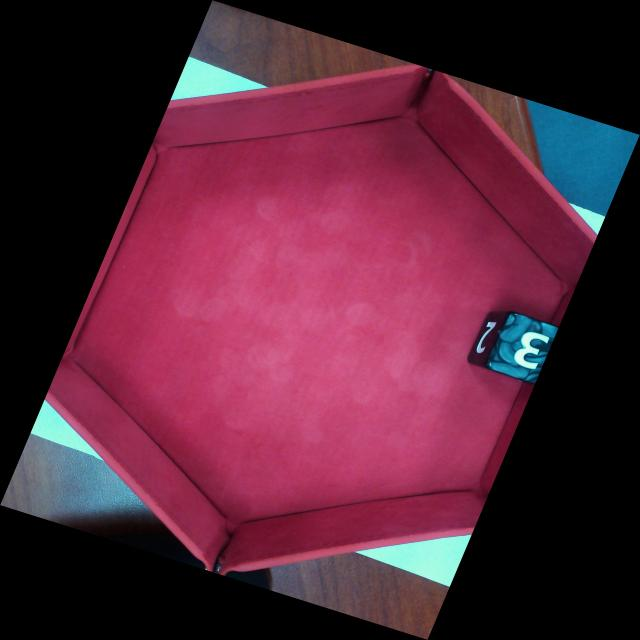dice: (492, 315, 557, 382)
